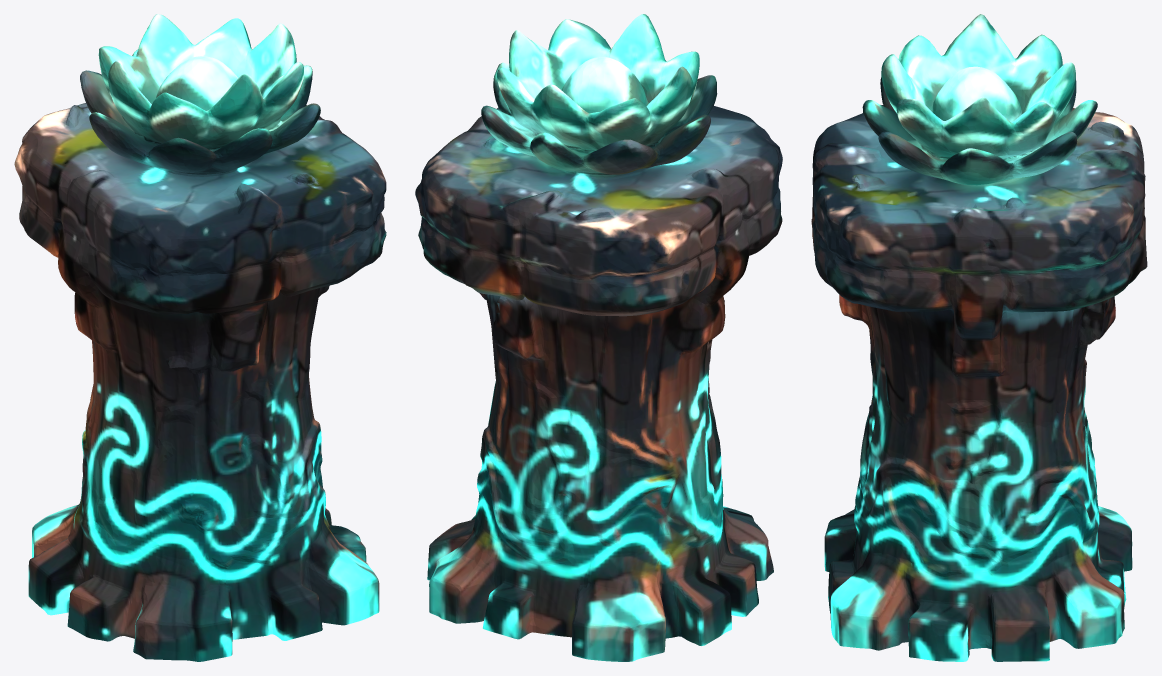
File: dew.glb
3 renders of one model, left to right at view 1: azimuth 30°, elevation 25°; view 2: azimuth 150°, elevation 25°; view 3: azimuth 270°, elevation 25°, orthographic.
Parts seen in each view (by area): view 1: dew; view 2: dew; view 3: dew.
Boxes of the visible parts, box(x1,y1,x2,y2) form: dew: box(14, 14, 386, 661); dew: box(415, 14, 782, 661); dew: box(811, 14, 1147, 661).
Size of the model in its own units: 1.03 by 1.89 by 1.07.
Materials: 1 (1 with a texture image).
